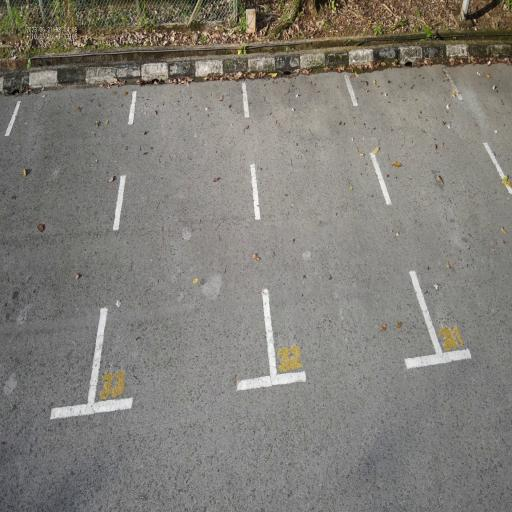Empty: (82, 65, 280, 421), (240, 65, 450, 393)
